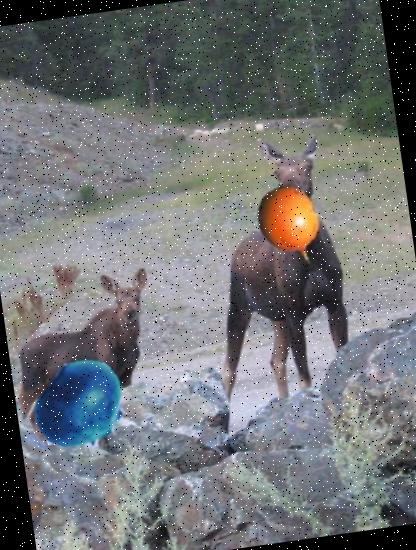Granadilla: (242, 177, 340, 274)
Huckleberry: (28, 352, 136, 460)
